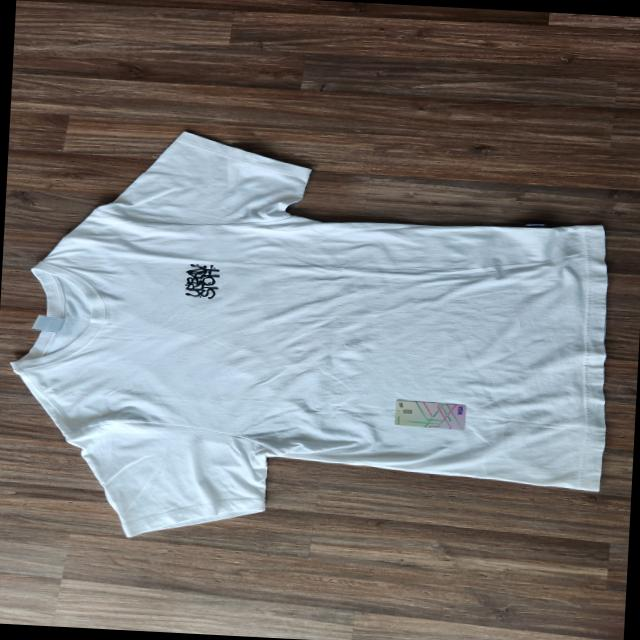card: (394, 399, 466, 429)
